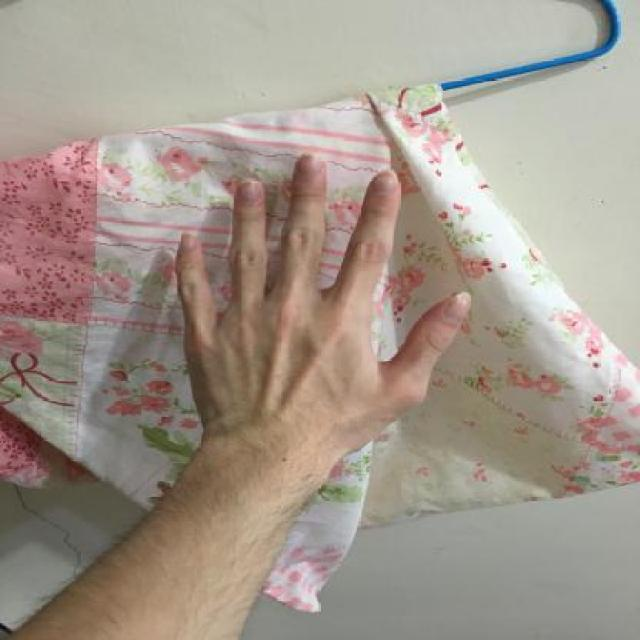bare_hand: (173, 138, 482, 480)
